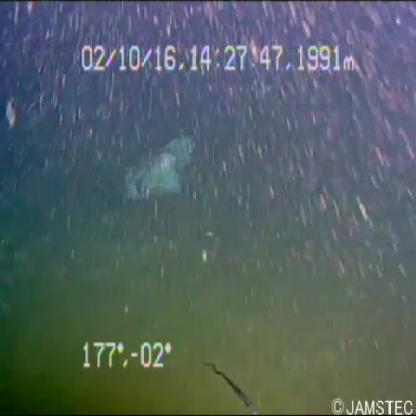Rác: (120, 111, 199, 209)
